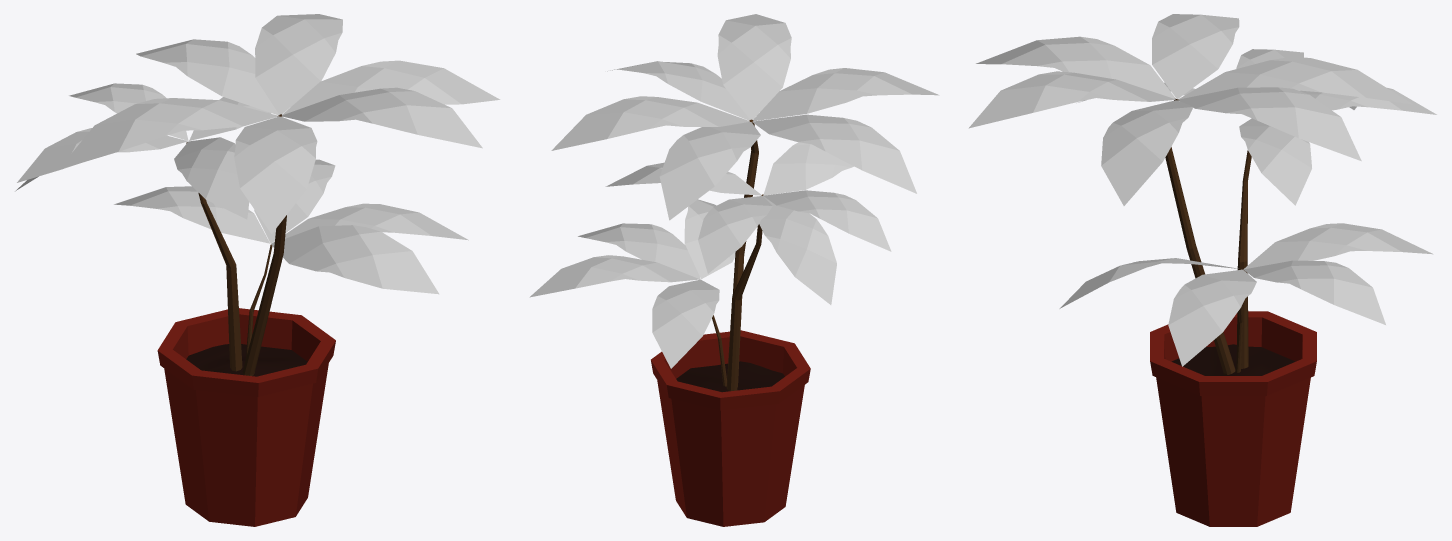
Rendered from PotPlant.fbx.
3 renders of one model, left to right at view 1: azimuth 30°, elevation 25°; view 2: azimuth 150°, elevation 25°; view 3: azimuth 270°, elevation 25°, orthographic. The views are drawn at different scales.
Visible parts, largest first — view 1: pot; view 2: pot; view 3: pot.
Boxes of the visible parts, box(x1,y1,x2,y2) form: pot: box(15, 14, 500, 526); pot: box(529, 14, 939, 526); pot: box(968, 14, 1436, 526).
Bounding box in the file's own units: 514 × 516 × 545.
